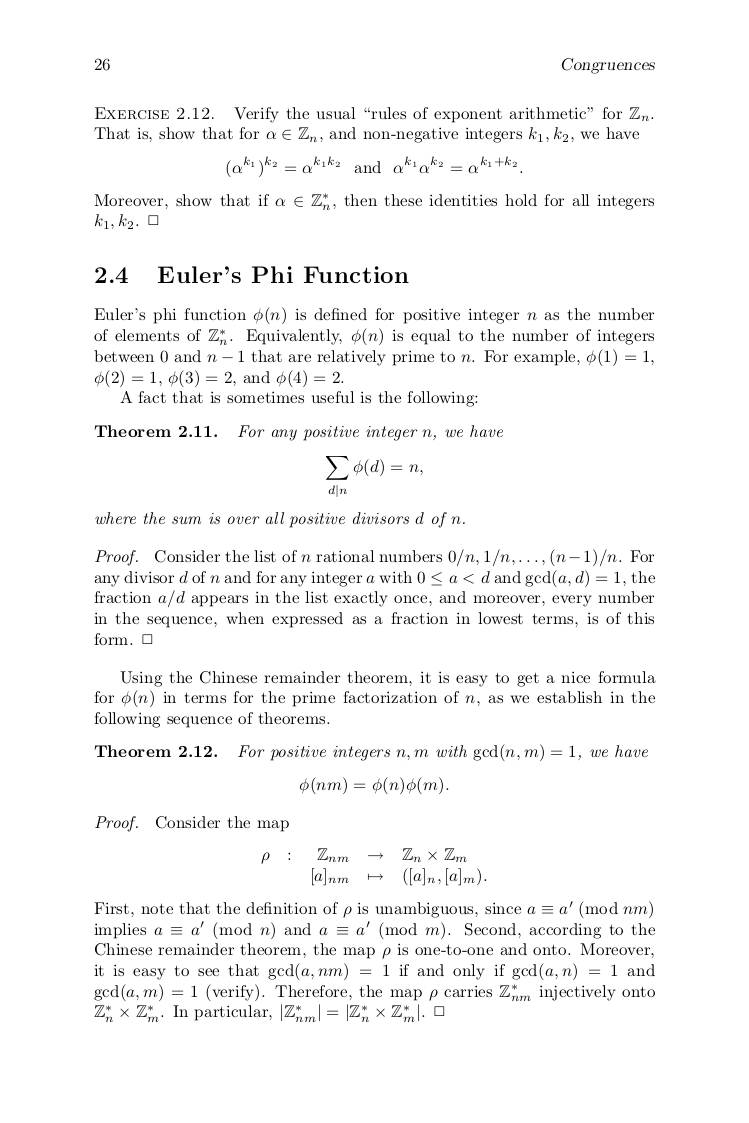formula: (226, 155, 522, 178), (326, 456, 422, 496), (261, 847, 466, 864), (312, 867, 486, 886), (299, 776, 448, 795)
